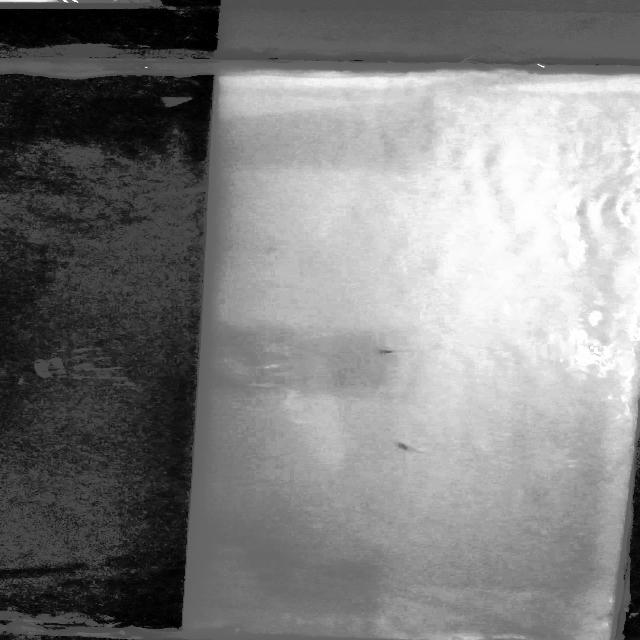shrimp: (369, 342, 419, 361), (394, 436, 424, 456)
